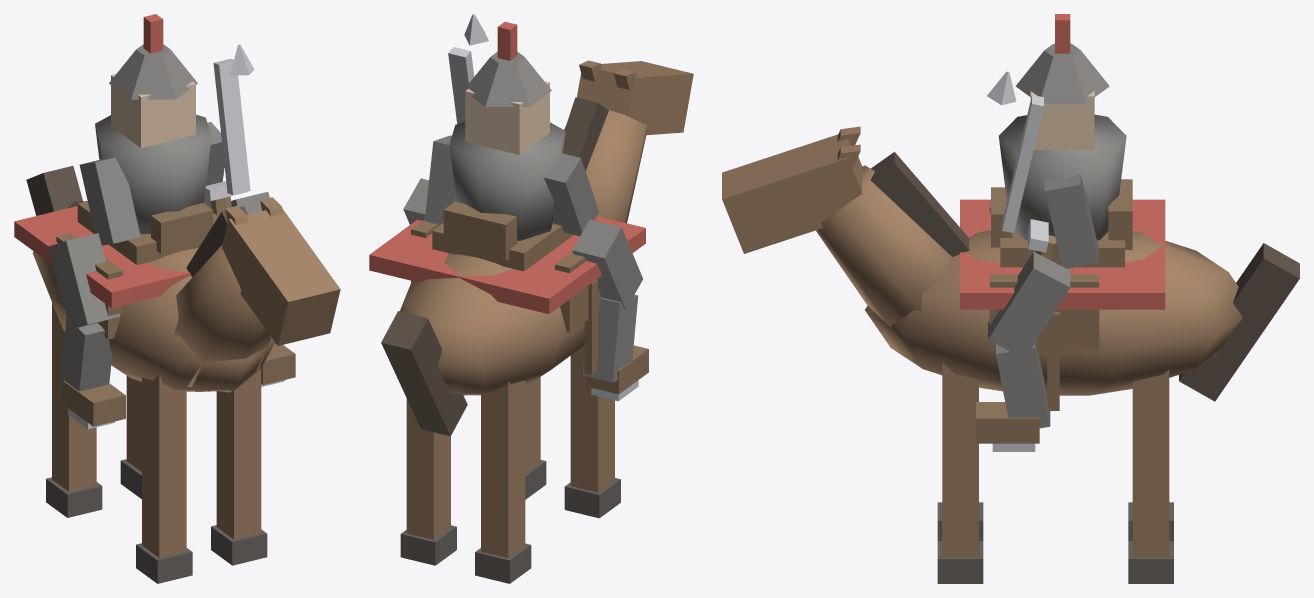
File: troop-cavalry.glb
3 renders of one model, left to right at view 1: azimuth 30°, elevation 25°; view 2: azimuth 150°, elevation 25°; view 3: azimuth 270°, elevation 25°, orthographic. The views are drawn at different scales.
Parts seen in each view (by area): view 1: head, body, leg_fl, rider, leg_fr, neck, saddle_cloth, leg_bl, rider_head, rider_thigh_l, rider_arm_l, helmet (+18 smaller); view 2: body, saddle_cloth, rider, leg_bl, tail, head, leg_br, leg_fl, neck, rider_head, rider_thigh_l, saddle_cantle (+18 smaller); view 3: body, neck, head, saddle_cloth, rider, leg_br, leg_fr, tail, rider_thigh_r, mane, rider_arm_r, helmet (+11 smaller).
Boxes of the visible parts, left/top/right/bottom form: head: left=221, top=209, right=340, bottom=345; body: left=32, top=201, right=274, bottom=391; leg_fl: left=142, top=374, right=186, bottom=557; rider: left=95, top=114, right=211, bottom=234; leg_fr: left=216, top=368, right=261, bottom=539; neck: left=174, top=244, right=271, bottom=392; saddle_cloth: left=14, top=206, right=190, bottom=307; leg_bl: left=52, top=302, right=96, bottom=491; rider_head: left=111, top=74, right=195, bottom=147; rider_thigh_l: left=48, top=233, right=119, bottom=329; rider_arm_l: left=79, top=157, right=140, bottom=245; helmet: left=109, top=44, right=197, bottom=99; body: left=400, top=253, right=584, bottom=395; saddle_cloth: left=369, top=216, right=645, bottom=314; rider: left=449, top=122, right=565, bottom=240; leg_bl: left=481, top=380, right=525, bottom=557; tail: left=381, top=311, right=467, bottom=436; head: left=577, top=61, right=693, bottom=135; leg_br: left=406, top=399, right=450, bottom=539; leg_fl: left=570, top=345, right=614, bottom=492; neck: left=564, top=110, right=647, bottom=223; rider_head: left=465, top=81, right=549, bottom=154; rider_thigh_l: left=572, top=219, right=642, bottom=309; saddle_cantle: left=443, top=201, right=516, bottom=261; body: left=865, top=230, right=1242, bottom=395; neck: left=816, top=165, right=952, bottom=361; head: left=722, top=134, right=862, bottom=253; saddle_cloth: left=960, top=199, right=1165, bottom=309; rider: left=998, top=114, right=1126, bottom=240; leg_br: left=1132, top=369, right=1169, bottom=557; leg_fr: left=942, top=362, right=978, bottom=557; tail: left=1179, top=243, right=1299, bottom=401; rider_thigh_r: left=988, top=251, right=1070, bottom=358; mane: left=870, top=152, right=969, bottom=256; rider_arm_r: left=1044, top=173, right=1098, bottom=268; helmet: left=1015, top=43, right=1109, bottom=103.
Size of the model in its own units: 0.162 by 0.39 by 0.3792.
